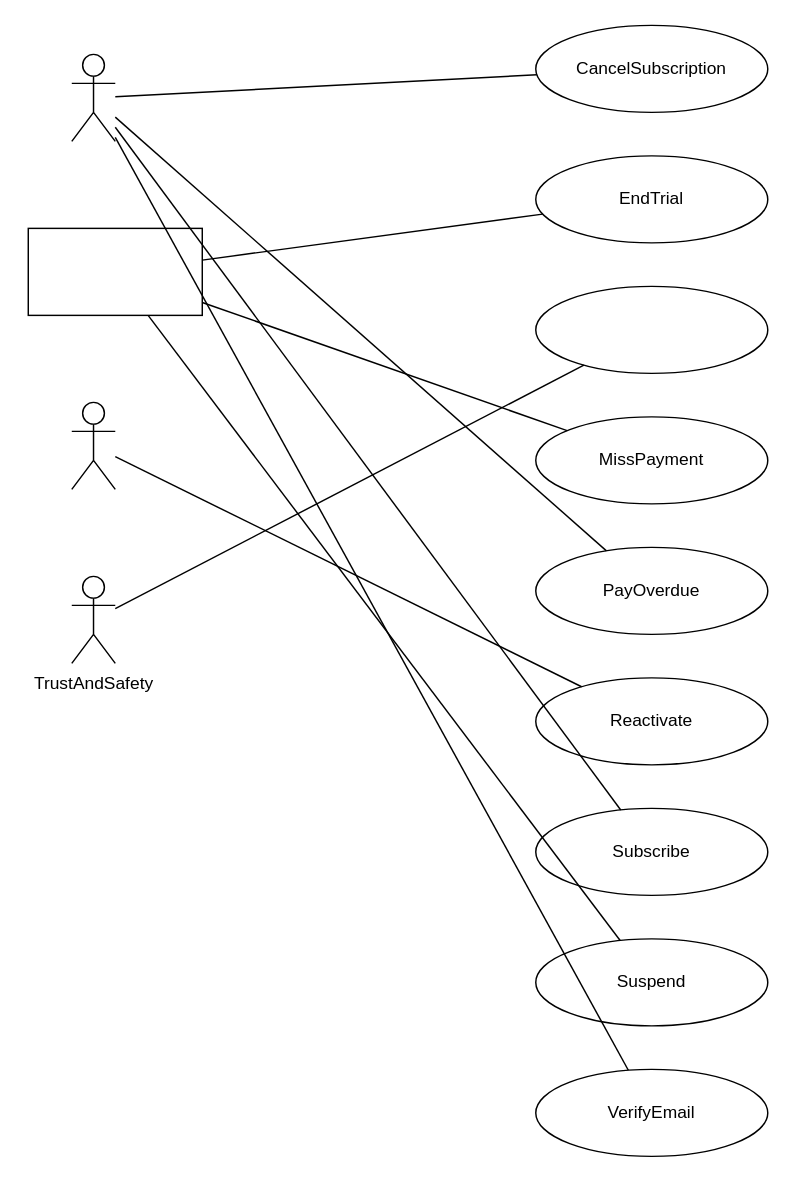
Image size: 793x1182. Some labels were removed from this diagram. The shapes that lost their labels are listed below. From the top down, each one's centre as x and y in pixels, then its label:
the point at 92,97: WorkspaceOwner
the point at 114,271: «system» BillingSystem
the point at 651,329: FreezeForAbuse
the point at 92,445: SuccessManager
